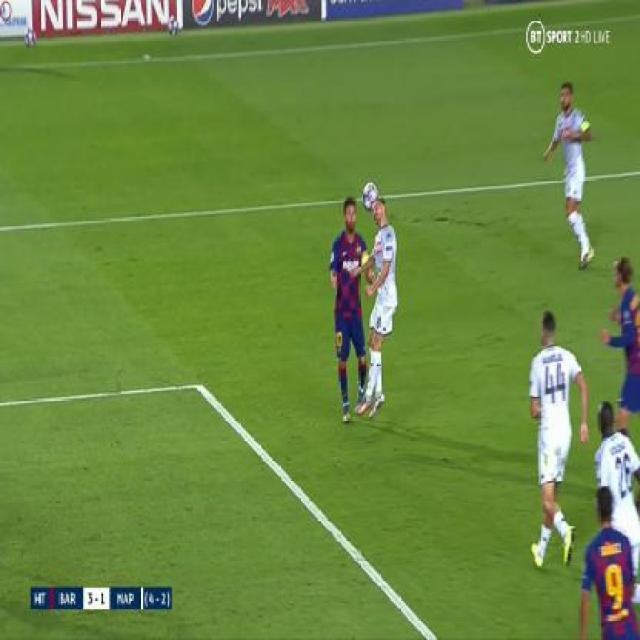ball: (361, 177, 380, 210)
player: (520, 307, 591, 569), (355, 178, 411, 417), (322, 190, 373, 429), (540, 76, 600, 272), (570, 487, 639, 638), (593, 397, 639, 605), (600, 258, 639, 432)
